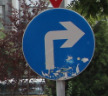right_turn: (22, 9, 94, 80)
